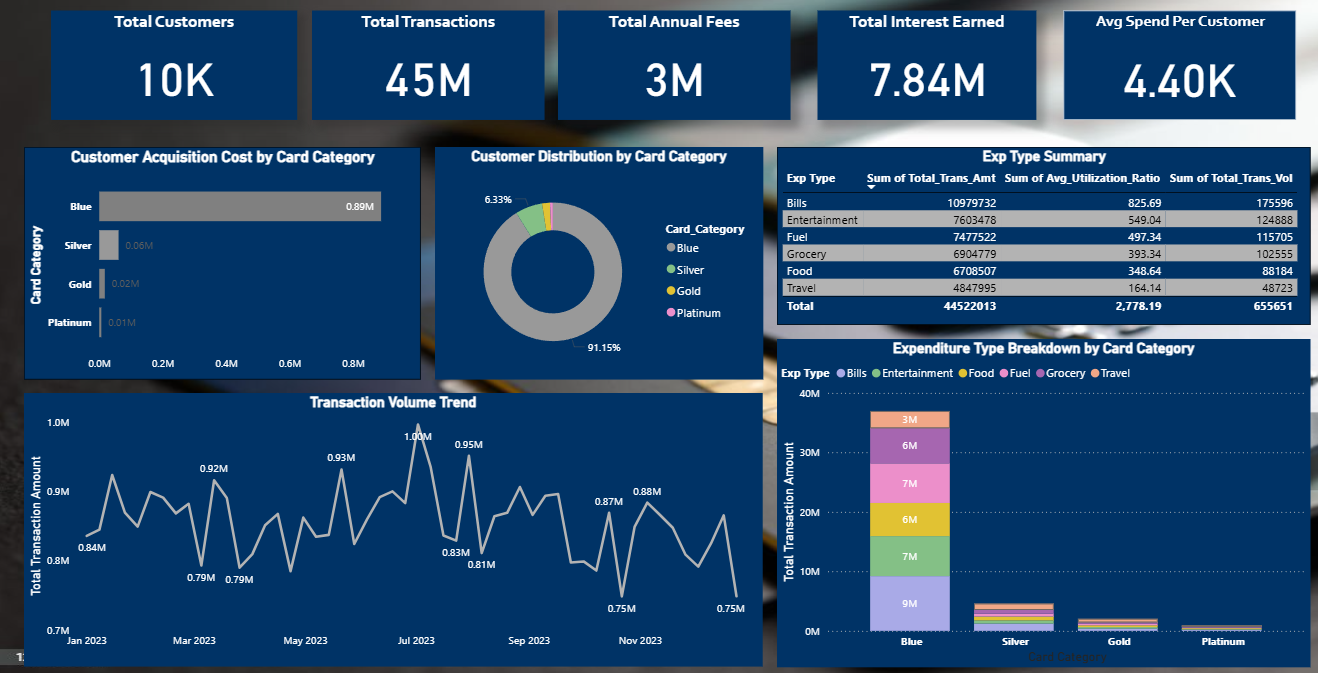

This screenshot's page, from the dashboard's own definition file:
{"tool":"powerbi","page":{"name":"Page 1","canvas":[1550,797],"ordinal":0},"visuals":[{"type":"card","title":"Total Customers","fields":{"Values":["credit_card.Total Customers"]},"box":[64,16,288,128],"z":0},{"type":"card","title":"Total Transactions","fields":{"Values":["credit_card.Total Transaction Amount"]},"box":[368,16,272,128],"z":1000},{"type":"card","title":"Total Annual Fees","fields":{"Values":["credit_card.Total Annual Fees"]},"box":[656,16,272,128],"z":2000},{"type":"card","title":"Total Interest Earned","fields":{"Values":["credit_card.Total Interest Earned"]},"box":[960,16,256,128],"z":3000},{"type":"barChart","title":"Customer Acquisition Cost by Card Category","fields":{"Category":["credit_card.Card_Category"],"Y":["Sum(credit_card.Customer_Acq_Cost)"]},"box":[32,176,464,272],"z":4000},{"type":"columnChart","title":"Expenditure Type Breakdown by Card Category","fields":{"Category":["credit_card.Card_Category"],"Series":["credit_card.Exp Type"],"Y":["credit_card.Total Transaction Amount"]},"box":[912,400,624,384],"z":4001},{"type":"donutChart","title":"Customer Distribution by Card Category","fields":{"Category":["credit_card.Card_Category"],"Y":["Sum(credit_card.Client_Number)"]},"box":[512,176,384,272],"z":4002},{"type":"lineChart","title":"Transaction Volume Trend","fields":{"Y":["credit_card.Total Transaction Amount"],"Category":["credit_card.Week_Start_Date.Variation.Date Hierarchy.Year","credit_card.Week_Start_Date.Variation.Date Hierarchy.Quarter","credit_card.Week_Start_Date.Variation.Date Hierarchy.Month","credit_card.Week_Start_Date.Variation.Date Hierarchy.Day"]},"box":[32,464,864,320],"z":4003},{"type":"tableEx","title":"Exp Type Summary","fields":{"Values":["credit_card.Exp Type","Sum(credit_card.Total_Trans_Amt)","Sum(credit_card.Avg_Utilization_Ratio)","Sum(credit_card.Total_Trans_Vol)"]},"box":[912,176,624,208],"z":4004},{"type":"card","title":"Avg Spend Per Customer","fields":{"Values":["credit_card.Avg_Spend_Per_Customer"]},"box":[1248,16,272,128],"z":4005}]}

Visuals, with their boxes in screenshot pixels (x1, y1, x2, y2), scaled from the page's 1550x797 canvas onto the 1318x673 screenshot:
"Total Customers" card: rect(54, 14, 299, 122)
"Total Transactions" card: rect(313, 14, 544, 122)
"Total Annual Fees" card: rect(558, 14, 789, 122)
"Total Interest Earned" card: rect(816, 14, 1034, 122)
"Customer Acquisition Cost by Card Category" barChart: rect(27, 149, 422, 378)
"Expenditure Type Breakdown by Card Category" columnChart: rect(775, 338, 1306, 662)
"Customer Distribution by Card Category" donutChart: rect(435, 149, 762, 378)
"Transaction Volume Trend" lineChart: rect(27, 392, 762, 662)
"Exp Type Summary" tableEx: rect(775, 149, 1306, 324)
"Avg Spend Per Customer" card: rect(1061, 14, 1292, 122)
